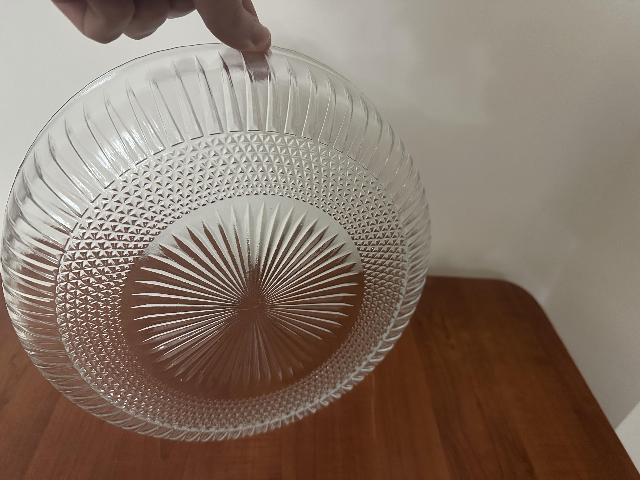Cam: (0, 35, 456, 440)
